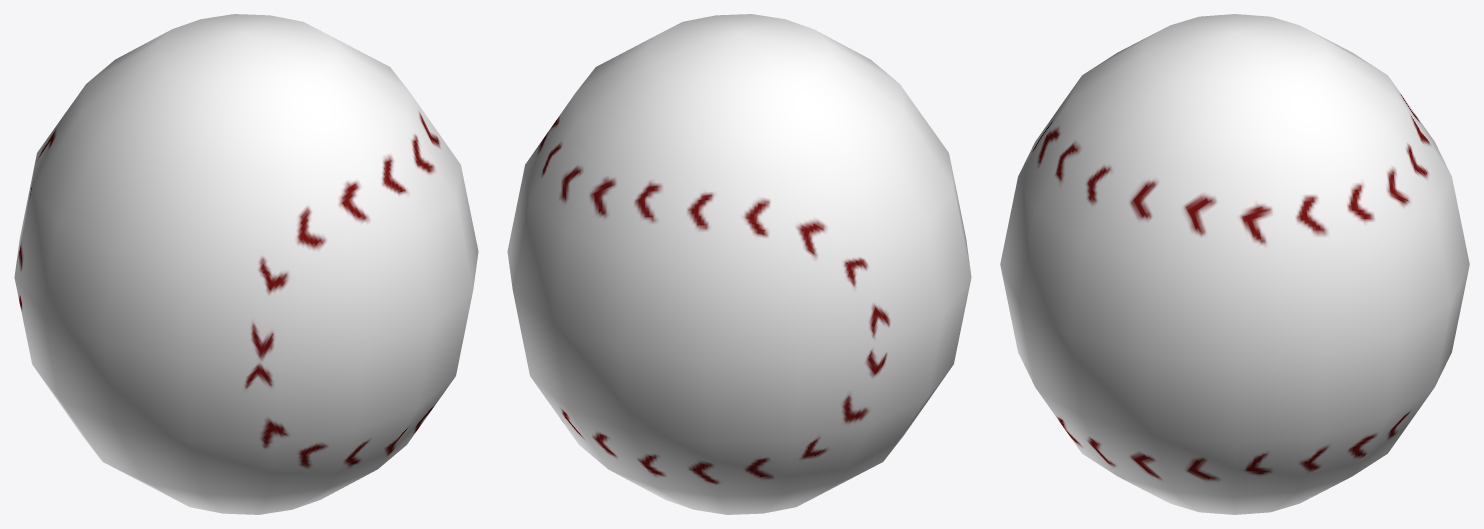
The model's file is tennis.fbx.
3 views of the same model, side by side, from view 1: azimuth 30°, elevation 25°; view 2: azimuth 150°, elevation 25°; view 3: azimuth 270°, elevation 25° (orthographic).
Parts seen in each view (by area): view 1: baseball; view 2: baseball; view 3: baseball.
Part boxes in pixels (x1,y1,x2,y2): baseball: [14, 14, 478, 514]; baseball: [507, 14, 971, 514]; baseball: [1000, 14, 1469, 514].
Bounding box in the file's own units: 11.23 × 12.16 × 11.23.
